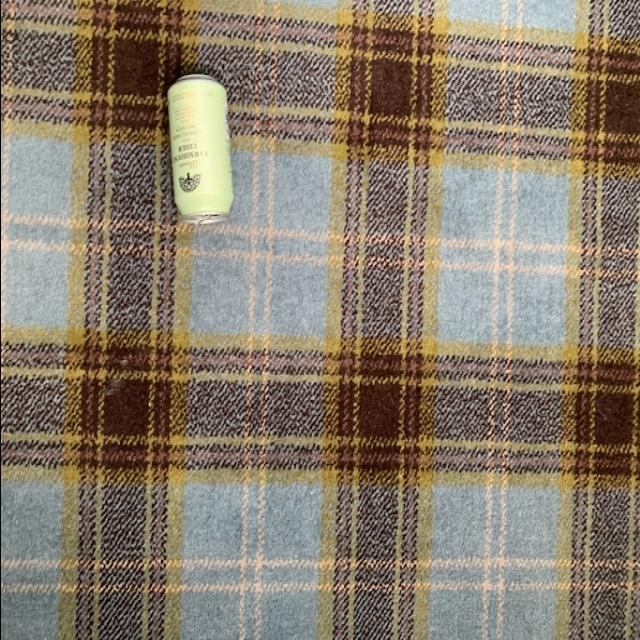Aluminum Can: (154, 75, 232, 236)
